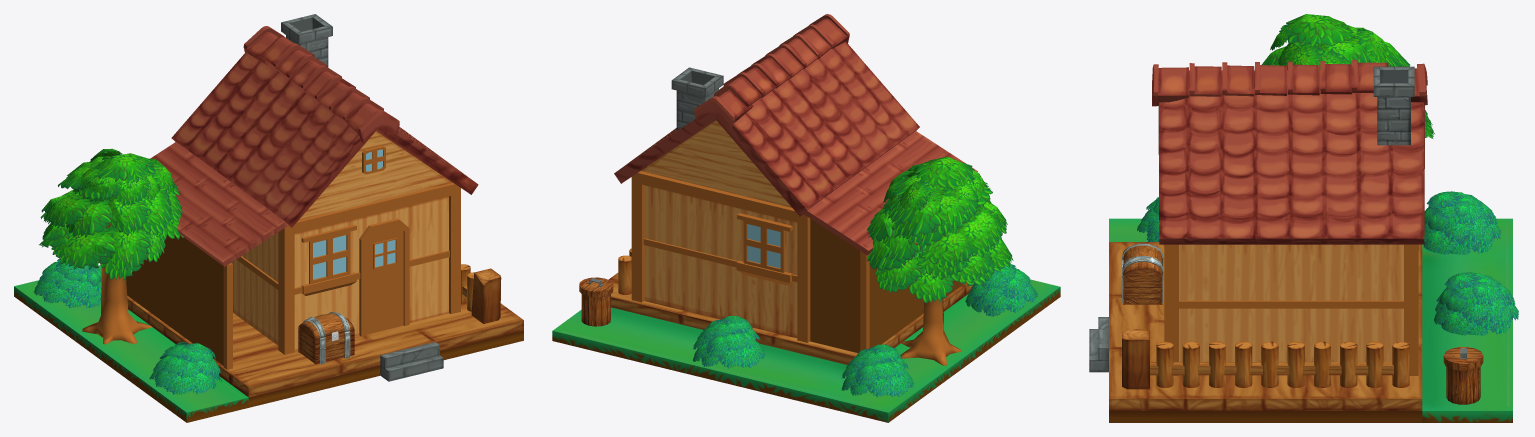
File: cabin1.fbx
3 views of the same model, side by side, from view 1: azimuth 30°, elevation 25°; view 2: azimuth 150°, elevation 25°; view 3: azimuth 270°, elevation 25° (orthographic). The views are drawn at different scales.
Parts seen in each view (by area): view 1: Base.003, techo.003, bush, Casa.003, depositroof.003, deposit.002, casaColumns.003, tilesTop, buhardilla.001, door.003, bush2.001, window.003 (+14 smaller); view 2: Base.003, techo.003, bush, Casa.003, depositroof.003, deposit.003, casaColumns.003, tilesTop, buhardilla.001, windowBack.003, bush2.002, bush2.003 (+9 smaller); view 3: techo.003, Base.003, Casa.003, logs, tilesTop, bush, bush2.003, bush2.002, casaColumns.003, chimenea.003, rowWood.003, trunk.004 (+8 smaller).
Part boxes in pixels (bbox=[...]): Base.003: bbox=[14, 265, 523, 422]; techo.003: bbox=[171, 52, 478, 227]; bush: bbox=[39, 148, 183, 280]; Casa.003: bbox=[231, 196, 448, 350]; depositroof.003: bbox=[150, 142, 288, 266]; deposit.002: bbox=[126, 235, 223, 365]; casaColumns.003: bbox=[278, 183, 460, 354]; tilesTop: bbox=[243, 26, 399, 143]; buhardilla.001: bbox=[298, 131, 452, 220]; door.003: bbox=[366, 225, 403, 334]; bush2.001: bbox=[149, 342, 221, 394]; window.003: bbox=[301, 225, 356, 295]; Base.003: bbox=[552, 273, 1060, 422]; techo.003: bbox=[614, 41, 919, 216]; bush: bbox=[867, 156, 1013, 303]; Casa.003: bbox=[644, 185, 797, 337]; depositroof.003: bbox=[804, 131, 977, 255]; deposit.003: bbox=[810, 219, 860, 352]; casaColumns.003: bbox=[631, 171, 810, 342]; tilesTop: bbox=[694, 14, 849, 129]; buhardilla.001: bbox=[641, 120, 791, 207]; windowBack.003: bbox=[736, 213, 792, 285]; bush2.002: bbox=[841, 344, 913, 397]; bush2.003: bbox=[693, 316, 764, 368]; techo.003: bbox=[1158, 70, 1424, 244]; Base.003: bbox=[1109, 218, 1512, 422]; Casa.003: bbox=[1179, 244, 1403, 361]; logs: bbox=[1156, 341, 1409, 387]; tilesTop: bbox=[1152, 59, 1427, 106]; bush: bbox=[1261, 14, 1434, 138]; bush2.003: bbox=[1434, 272, 1518, 335]; bush2.002: bbox=[1423, 191, 1501, 254]; casaColumns.003: bbox=[1164, 244, 1418, 375]; chimenea.003: bbox=[1373, 66, 1414, 145]; rowWood.003: bbox=[1179, 300, 1403, 308]; trunk.004: bbox=[1122, 329, 1149, 389].
Bounding box in the file's own units: 174 × 111 × 148.
Materials: 23 (17 with a texture image).
